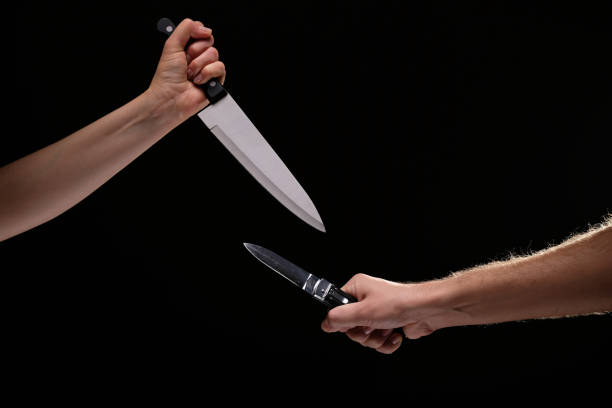knife: (150, 13, 328, 235), (238, 239, 410, 356)
